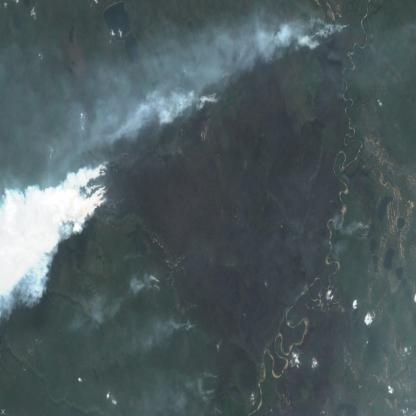fire: (78, 152, 122, 232), (306, 15, 358, 53), (199, 357, 230, 416), (146, 269, 169, 300), (208, 80, 230, 109)
